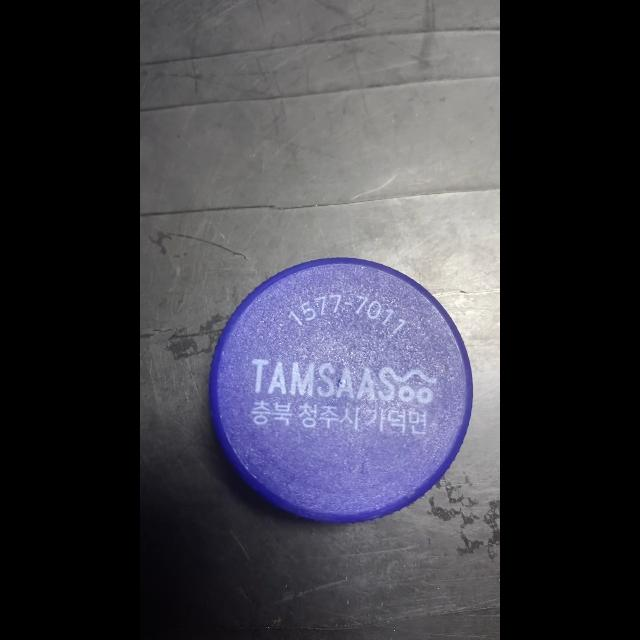plastic_bottle_cap: (204, 250, 480, 532)
